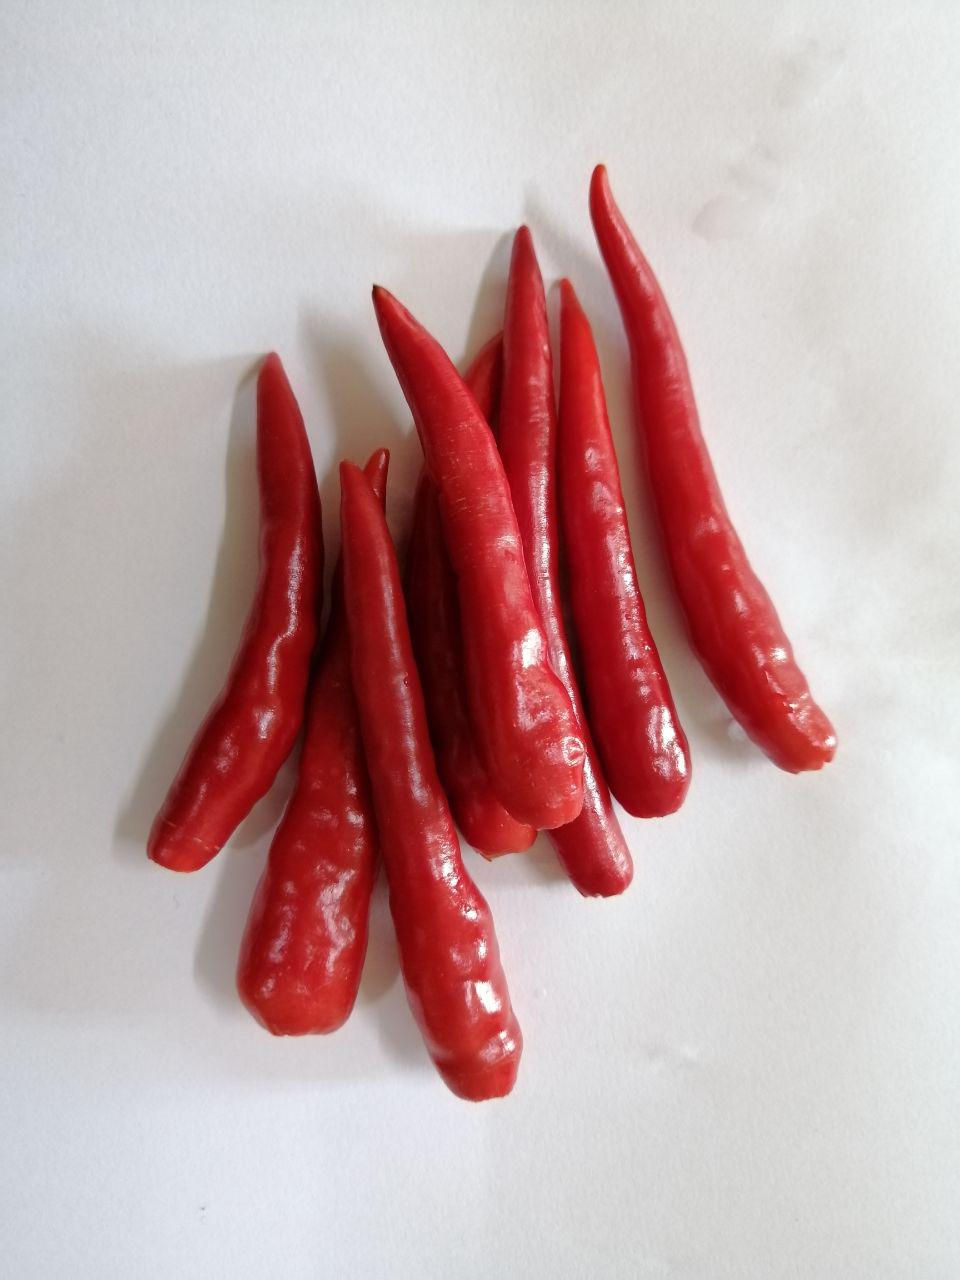lada merah: (553, 131, 877, 810), (301, 425, 565, 1129), (357, 276, 612, 851), (486, 202, 655, 914), (135, 343, 330, 908), (518, 259, 708, 825), (230, 619, 388, 1084)
